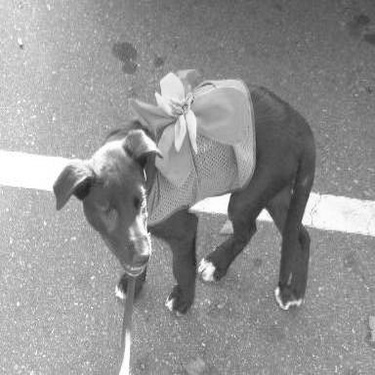dog: (46, 63, 319, 315)
